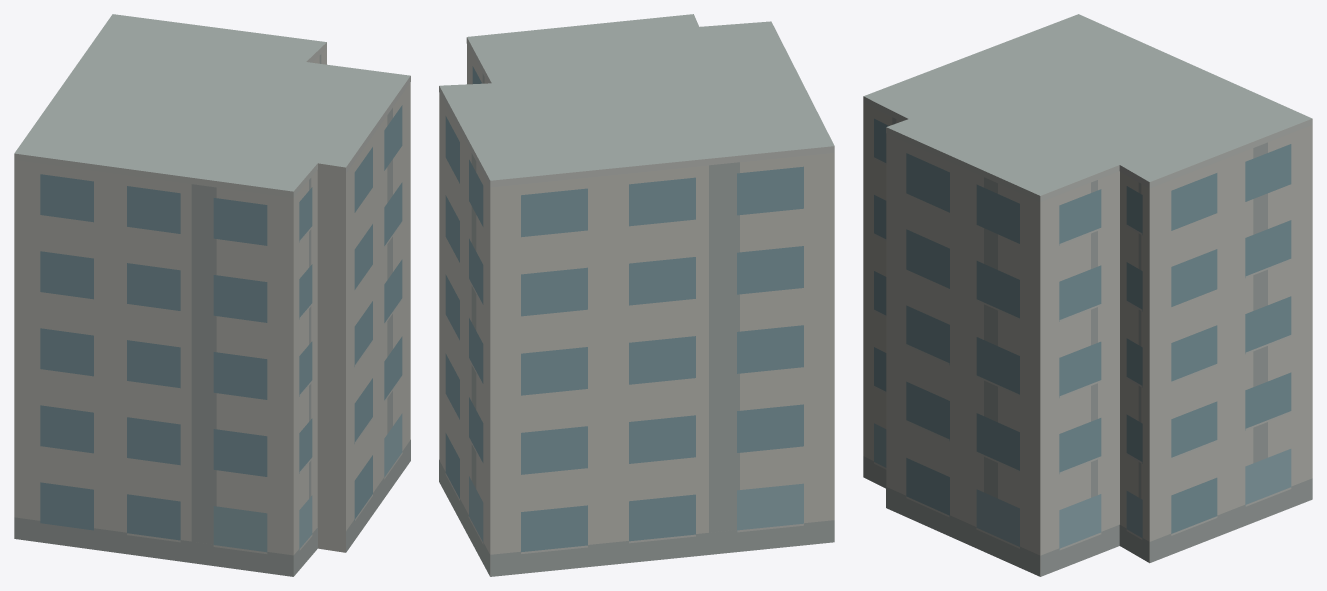
The model's file is survey-upis-32847839.glb.
The picture shows the model from 3 angles, left to right: view 1: azimuth 30°, elevation 25°; view 2: azimuth 150°, elevation 25°; view 3: azimuth 270°, elevation 25°; orthographic projection. The views are drawn at different scales.
Parts seen in each view (by area): view 1: survey-upis-32847839.tmp; view 2: survey-upis-32847839.tmp; view 3: survey-upis-32847839.tmp.
Boxes of the visible parts, box(x1,y1,x2,y2) form: survey-upis-32847839.tmp: box(14, 14, 410, 576); survey-upis-32847839.tmp: box(439, 14, 834, 576); survey-upis-32847839.tmp: box(863, 14, 1312, 576).
Bounding box in the file's own units: 15.02 × 14.65 × 15.66.
